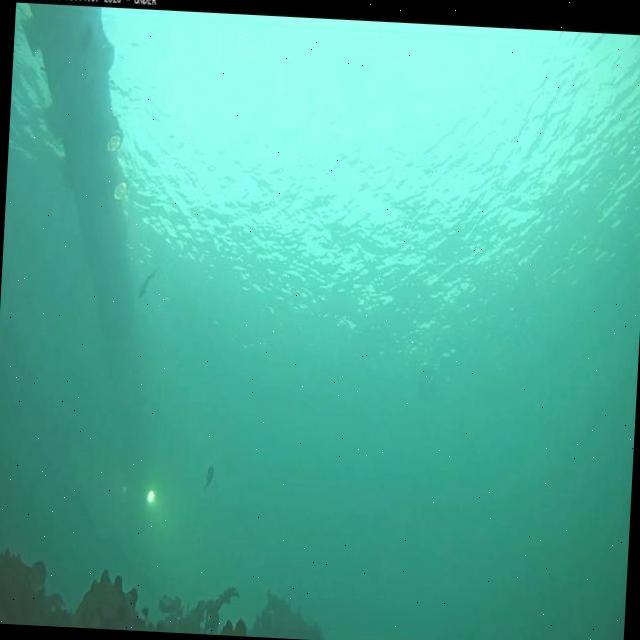fish: (135, 269, 159, 303), (203, 464, 217, 493)
